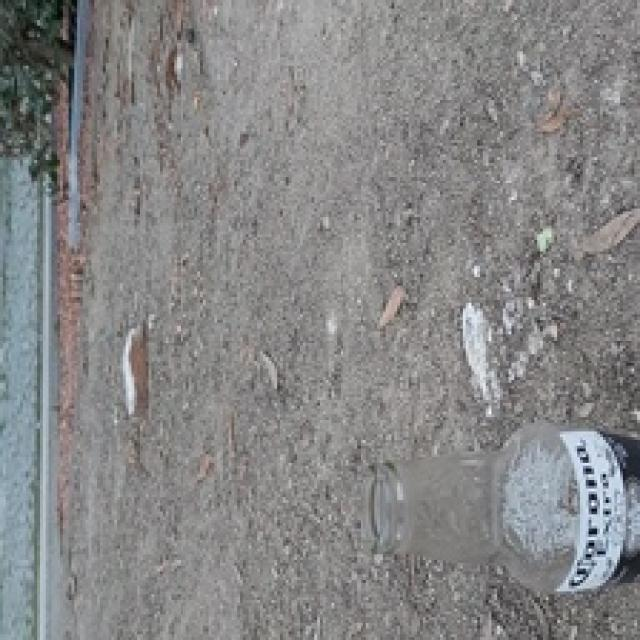Glass: (366, 424, 640, 598)
